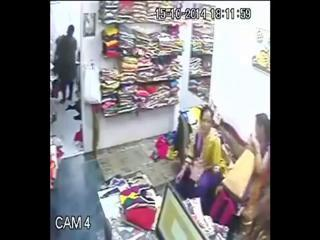Normal: (52, 24, 78, 104)
